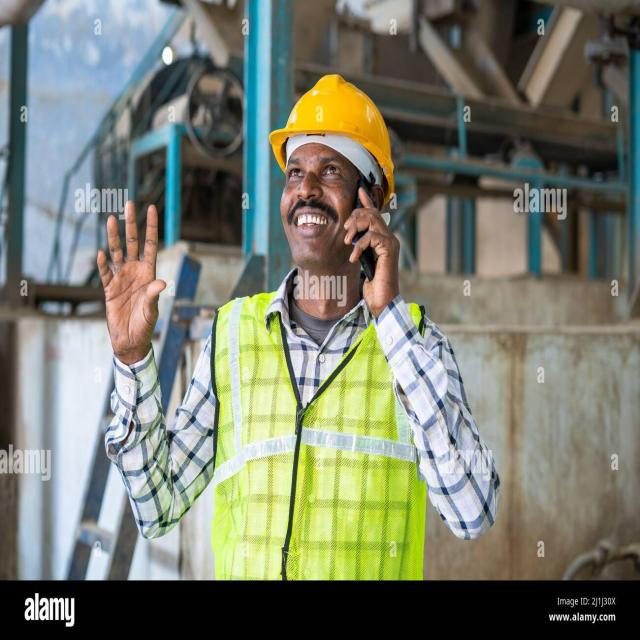Reflective-Jacket: (208, 292, 430, 579)
Safety-Helmet: (267, 70, 396, 198)
